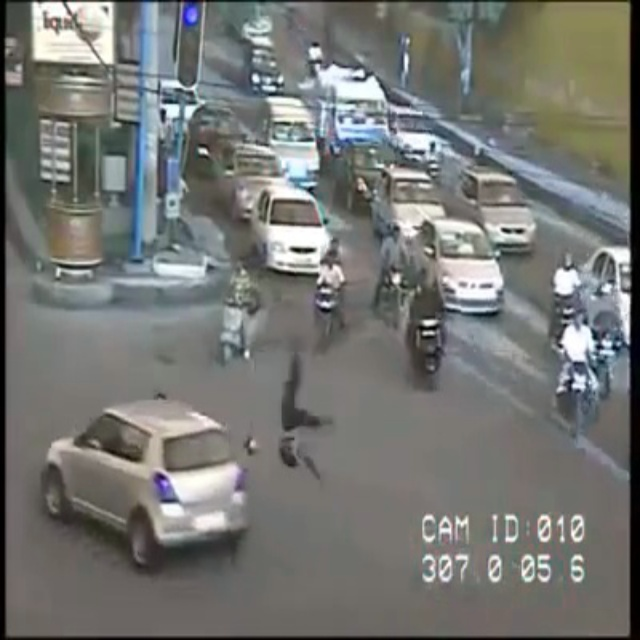acc: (37, 351, 330, 573)
